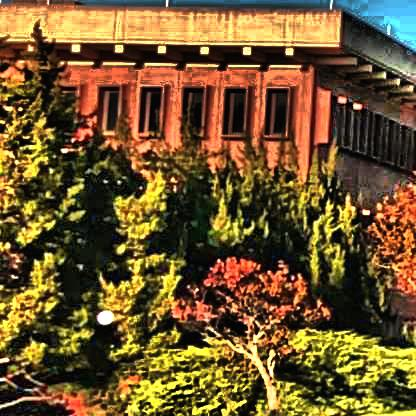golfball: (95, 306, 112, 321)
